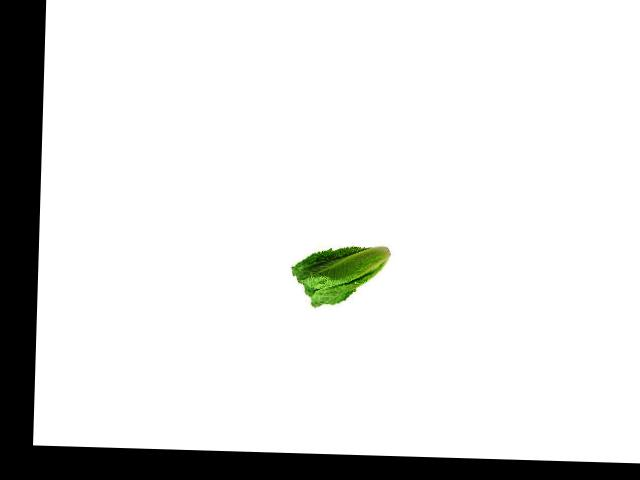lettuce: (290, 242, 400, 310)
